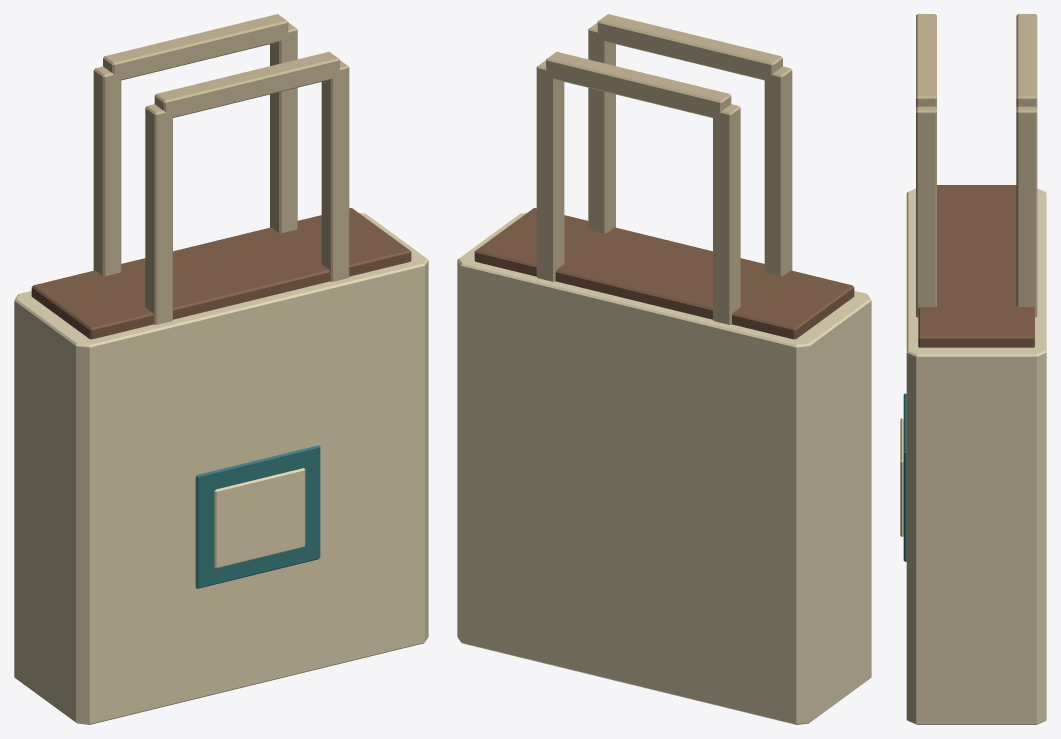
The model's file is b17_canvas_shopping_tote.glb.
The picture shows the model from 3 angles, left to right: view 1: azimuth 30°, elevation 25°; view 2: azimuth 150°, elevation 25°; view 3: azimuth 270°, elevation 25°; orthographic projection. The views are drawn at different scales.
Parts seen in each view (by area): view 1: b17_canvas_shopping_tote; view 2: b17_canvas_shopping_tote; view 3: b17_canvas_shopping_tote.
Part boxes in pixels (x1,y1,x2,y2): b17_canvas_shopping_tote: (14, 14, 428, 724); b17_canvas_shopping_tote: (457, 14, 871, 724); b17_canvas_shopping_tote: (900, 14, 1046, 724).
Bounding box in the file's own units: 0.34 × 0.554 × 0.1255.
